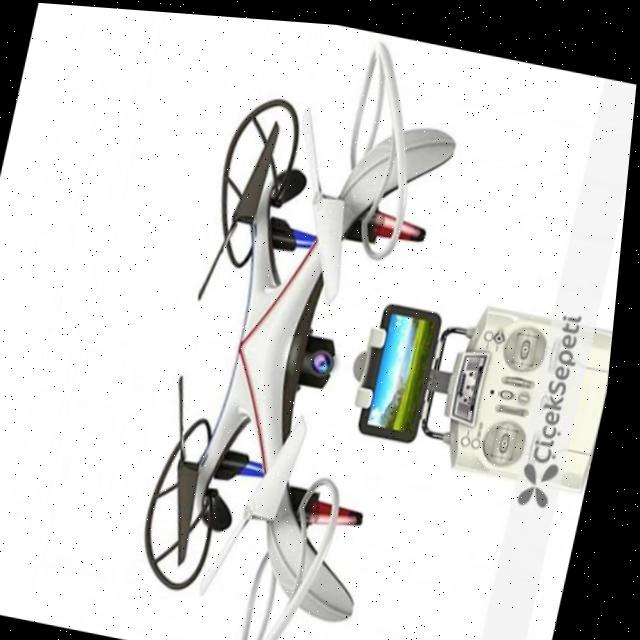drones: (107, 9, 491, 640)
